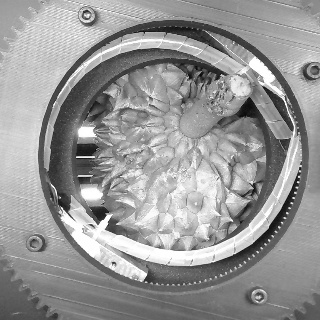base: (172, 102, 211, 145)
end: (229, 74, 252, 97)
